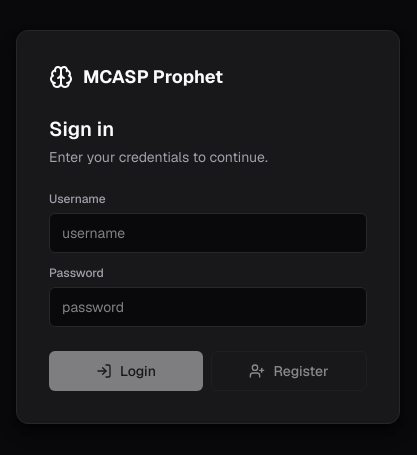
Test: LoginPage › Login Flow › shows error message on failed login
The width and height of the screenshot is (417, 455).
Type "testuser" into the field with placeholder "username".
click(208, 233); type("testuser")  # box [49,213,367,253]
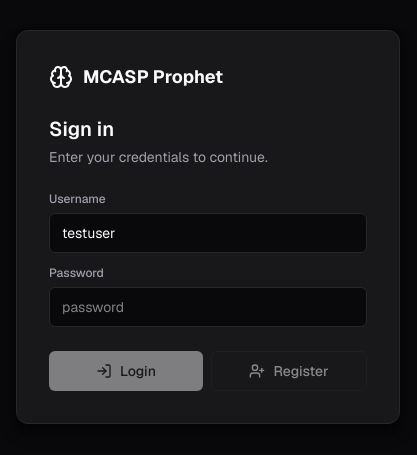
Type "wrongpass" into the password field with placeholder "password".
click(208, 307); type("wrongpass")  # box [49,287,367,327]
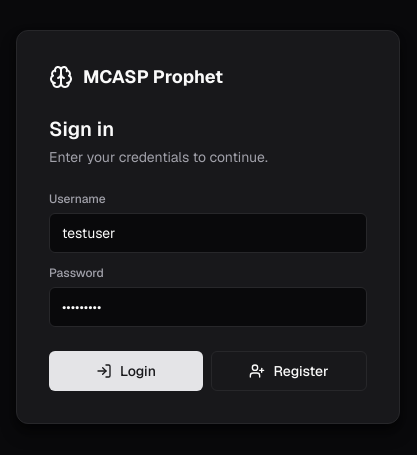
Click the button "Login".
click(126, 371)  # box [49,351,203,391]
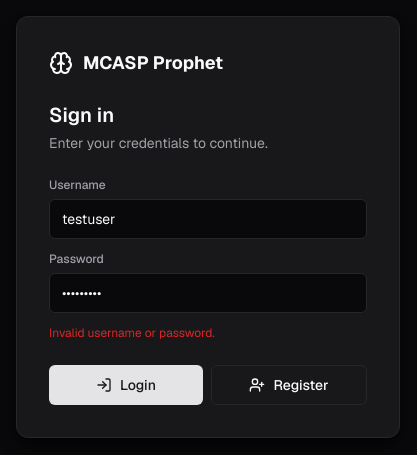
Expected: the text "Invalid username or password." is shown, [49,325,215,341]
